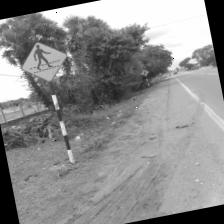yellowboard: (17, 37, 71, 86)
